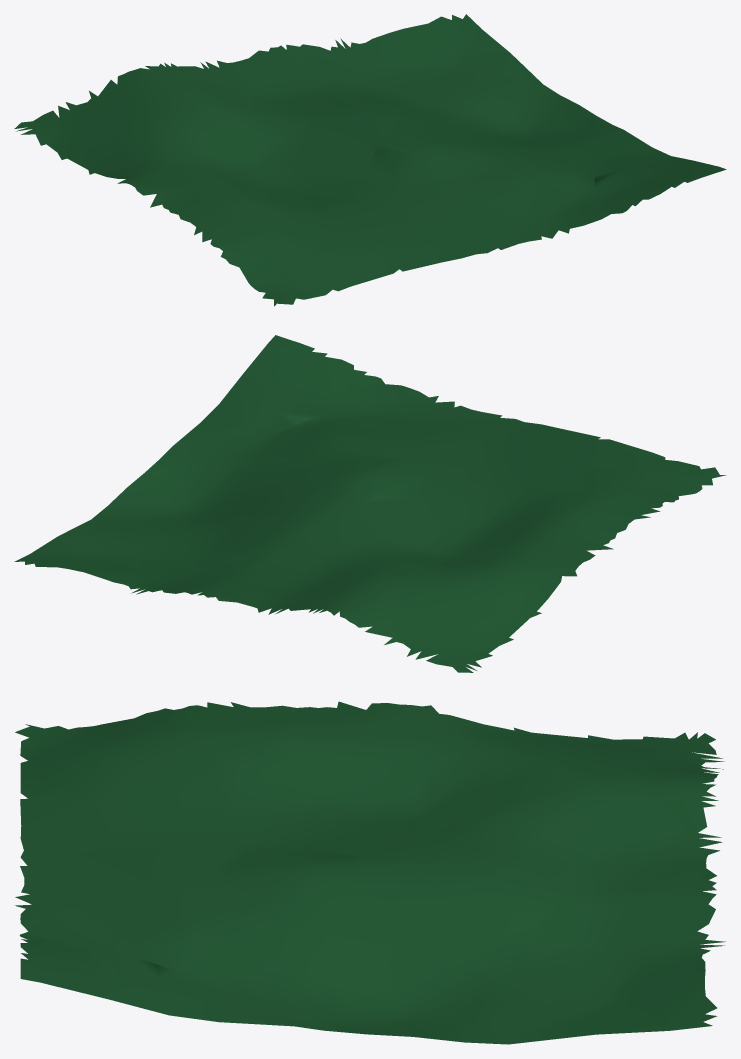
Rendered from payo_land_x3_ym2_lod2.glb.
The picture shows the model from 3 angles, top to bottom: view 1: azimuth 30°, elevation 25°; view 2: azimuth 150°, elevation 25°; view 3: azimuth 270°, elevation 25°; orthographic projection. The views are drawn at different scales.
Parts seen in each view (by area): view 1: payo_land_x3_ym2; view 2: payo_land_x3_ym2; view 3: payo_land_x3_ym2.
Boxes of the visible parts, x1=… form: payo_land_x3_ym2: x1=14, y1=14, x2=726, y2=306; payo_land_x3_ym2: x1=14, y1=335, x2=726, y2=672; payo_land_x3_ym2: x1=15, y1=701, x2=725, y2=1044.
Size of the model in its own units: 261 by 29.39 by 266.
